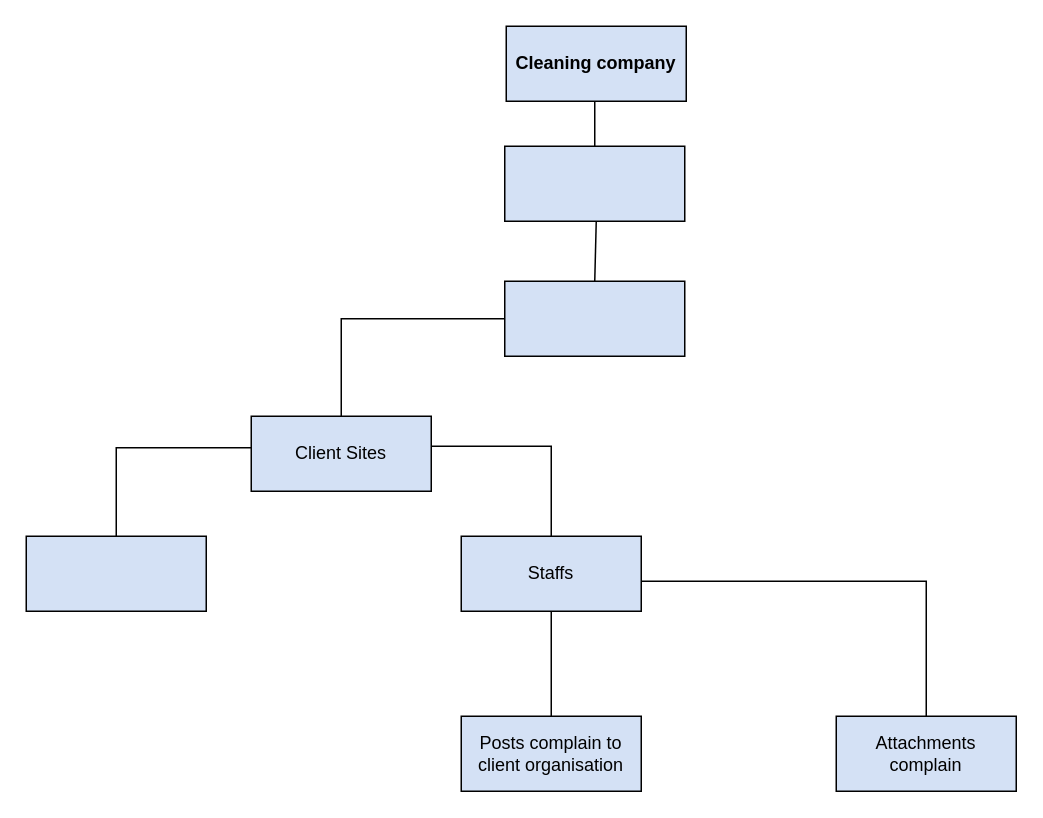
Image size: 1043x818. Some labels were removed from this diagram. Here are the shapes that lost their labels. From the top down, the centre of each, then its label:
At point 594,183: "Manages company staffs".
At point 594,318: "Company staffs assigned to client organisation".
At point 115,573: "Tools".
